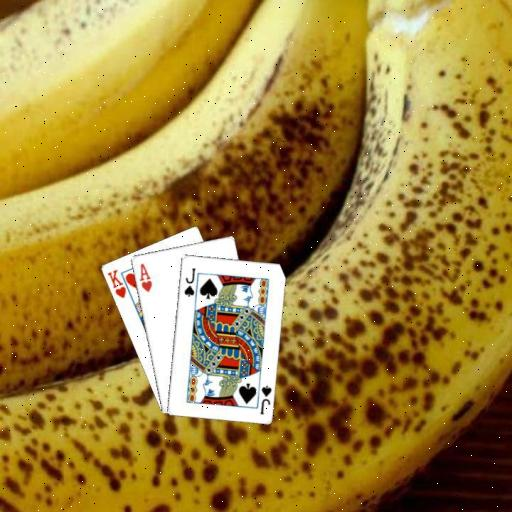AH: (136, 261, 153, 293)
JS: (181, 264, 197, 298), (257, 382, 273, 416)
KH: (104, 266, 128, 300)
